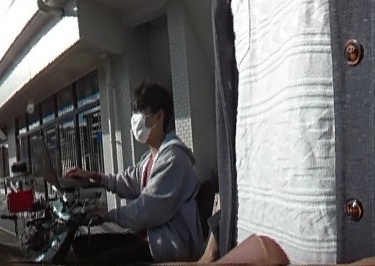person: (78, 83, 204, 266)
